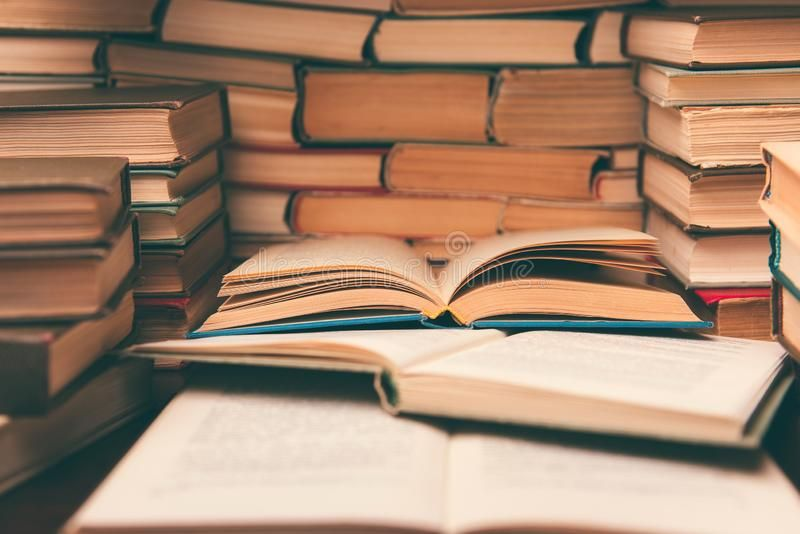Open Book: (157, 323, 789, 465), (217, 225, 707, 329)
